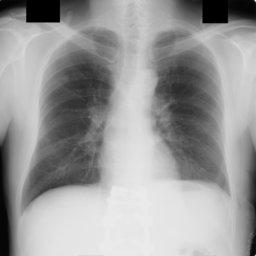leftlobe: (153, 33, 229, 190)
right lobe: (24, 28, 119, 206)
